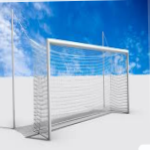goals: (24, 35, 132, 142)
